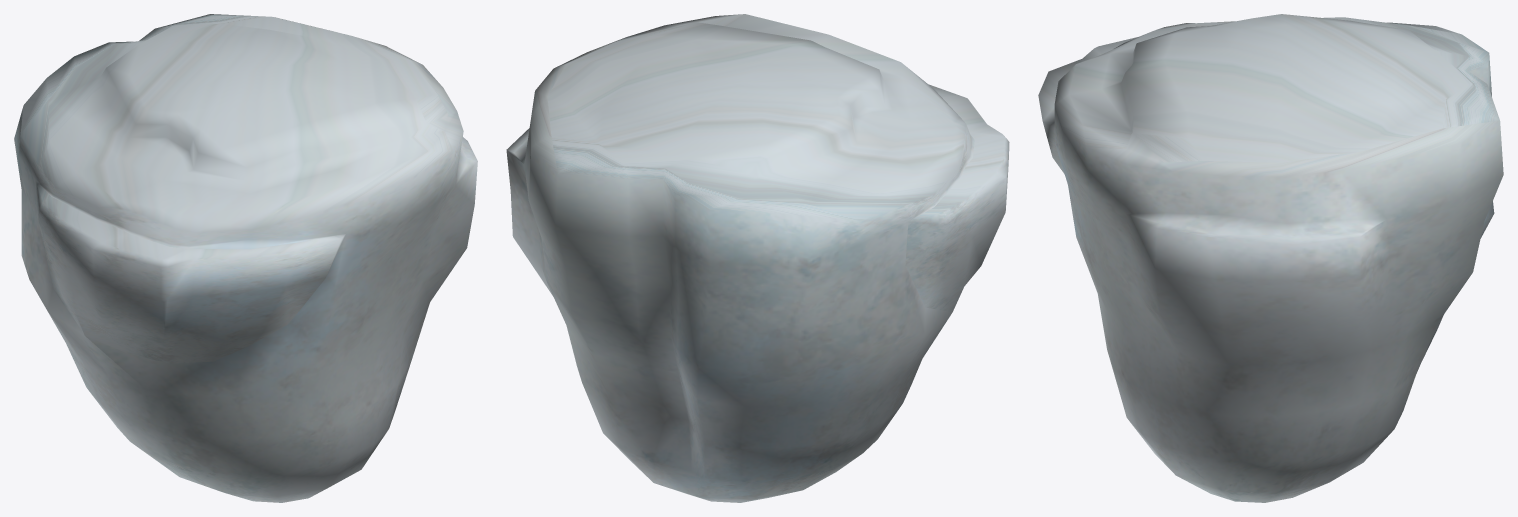
File: P_RockDesert_CliffHalf04.obj
3 renders of one model, left to right at view 1: azimuth 30°, elevation 25°; view 2: azimuth 150°, elevation 25°; view 3: azimuth 270°, elevation 25°, orthographic. The views are drawn at different scales.
Bounding box in the file's own units: 38.97 × 38.22 × 37.35.
